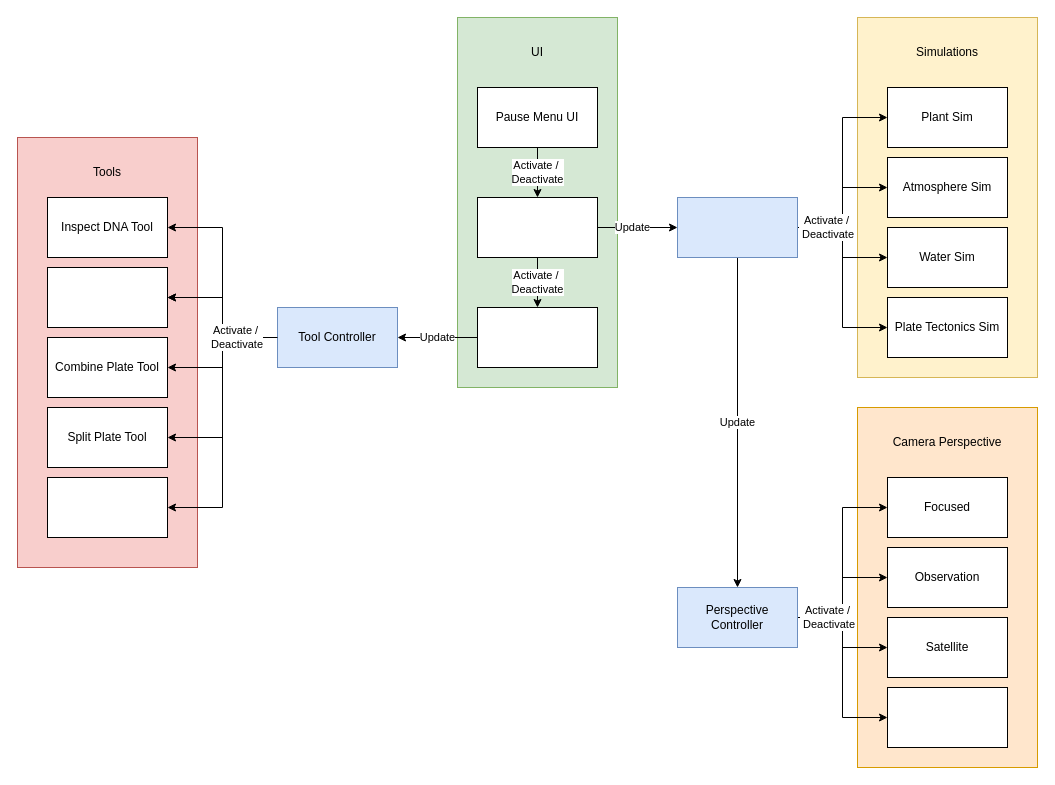
Some shapes in this 1055 by 785 pixel diagram are drawn without their labels. Here are the shapes that lost their labels. From the top down, the box of each, then its label:
(476, 196, 598, 258): Systems UI
(676, 196, 798, 258): Systems Controller
(46, 266, 168, 328): Spawn Plant Tool
(476, 306, 598, 368): ToolBar UI
(46, 476, 168, 538): Move Plate Tool
(886, 686, 1008, 748): Stationary
